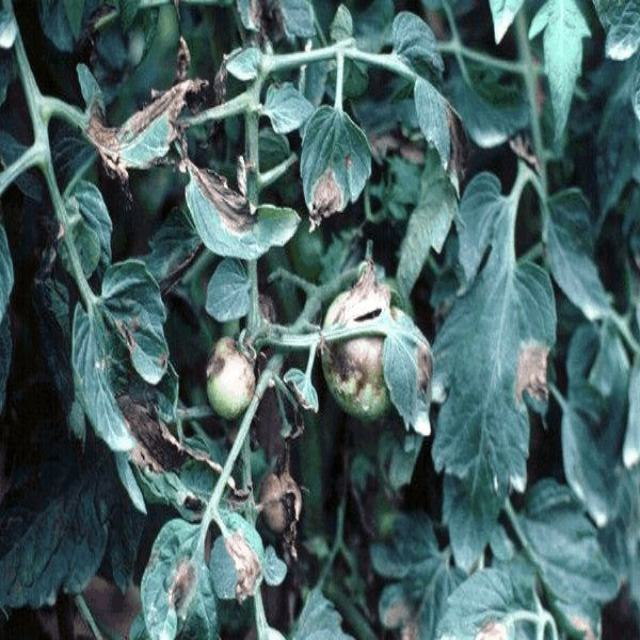Early_blight: (76, 77, 210, 211), (111, 387, 205, 475), (184, 154, 262, 237), (335, 259, 391, 323), (222, 531, 264, 607), (511, 334, 550, 407), (305, 165, 345, 234), (164, 555, 199, 616), (444, 105, 470, 181), (413, 338, 438, 399), (473, 611, 510, 640)
